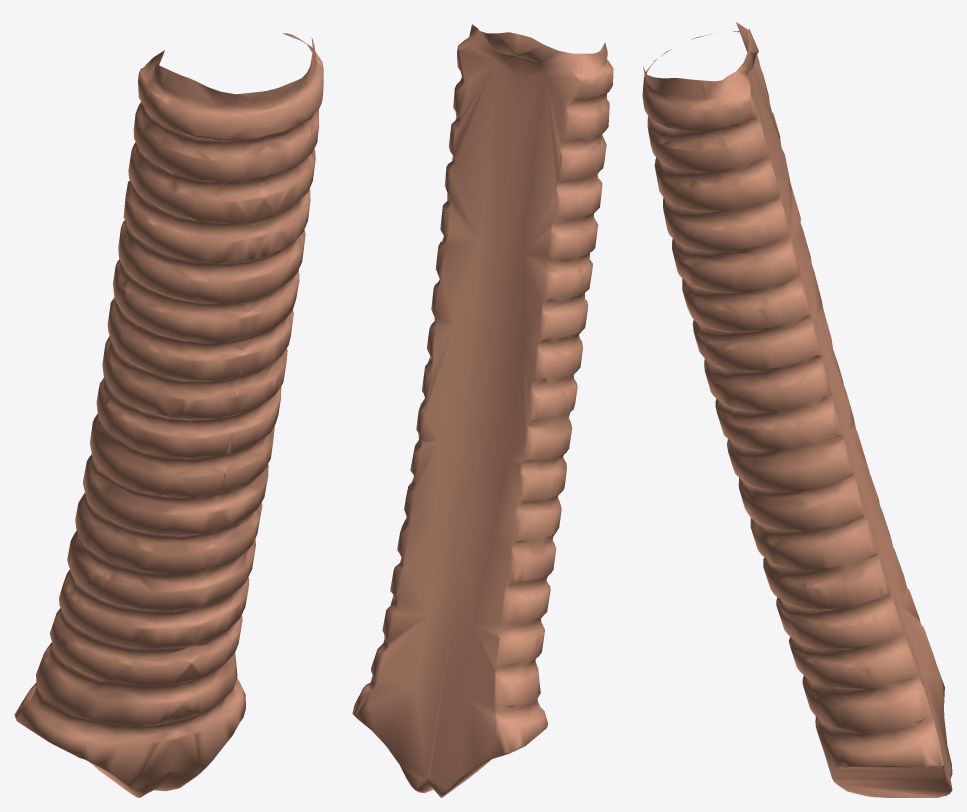
Rendered from trachea.glb.
3 views of the same model, side by side, from view 1: azimuth 30°, elevation 25°; view 2: azimuth 150°, elevation 25°; view 3: azimuth 270°, elevation 25° (orthographic). The views are drawn at different scales.
Parts seen in each view (by area): view 1: Trachea; view 2: Trachea; view 3: Trachea.
Part boxes in pixels (box(x1,y1,x2,y2)): Trachea: box(14, 33, 323, 797); Trachea: box(352, 24, 613, 797); Trachea: box(642, 22, 952, 797).
Bounding box in the file's own units: 0.0272 × 0.1054 × 0.039.
